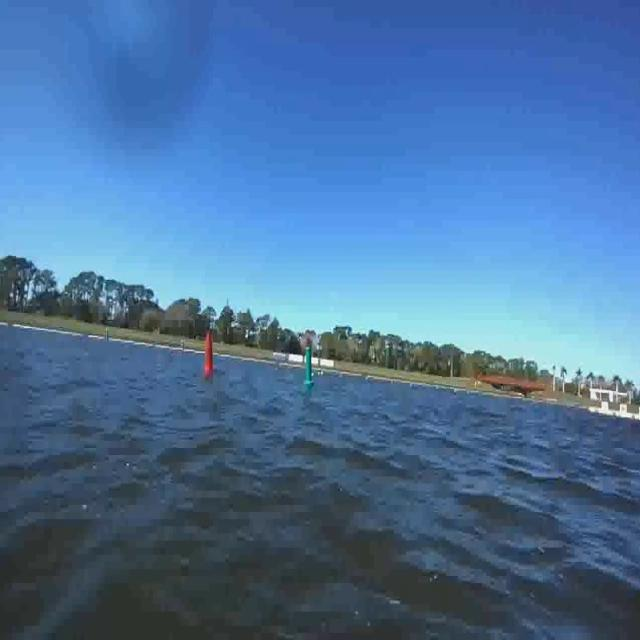green-column-buoy: (298, 333, 320, 398)
red-column-buoy: (203, 324, 220, 388)
